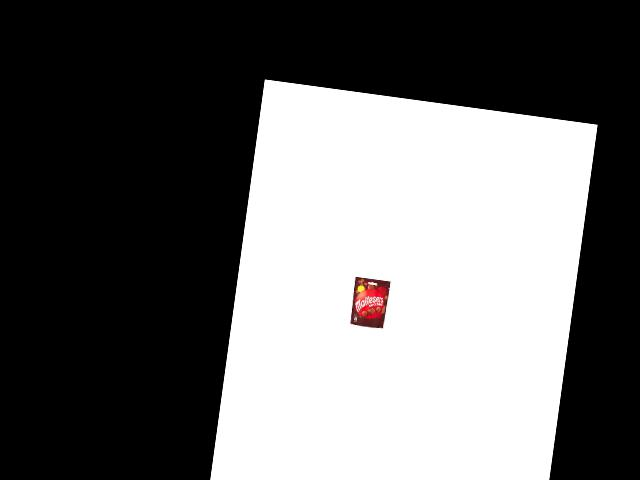chocolate: (348, 275, 391, 330)
